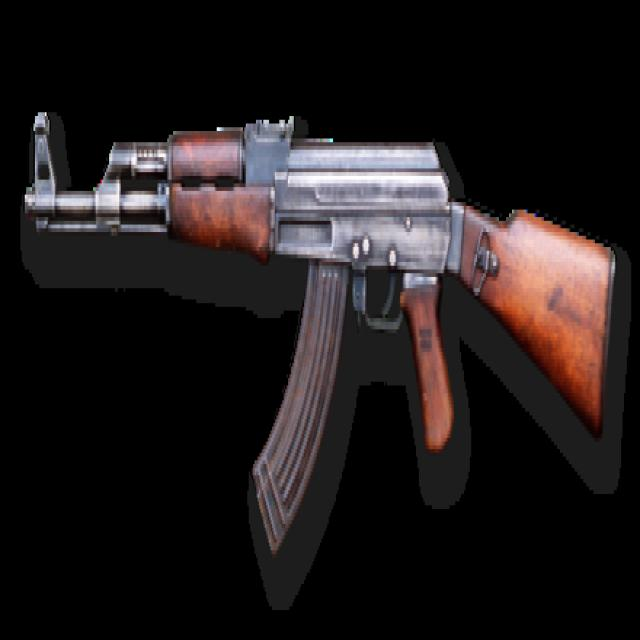Weapon: (25, 101, 622, 543)
